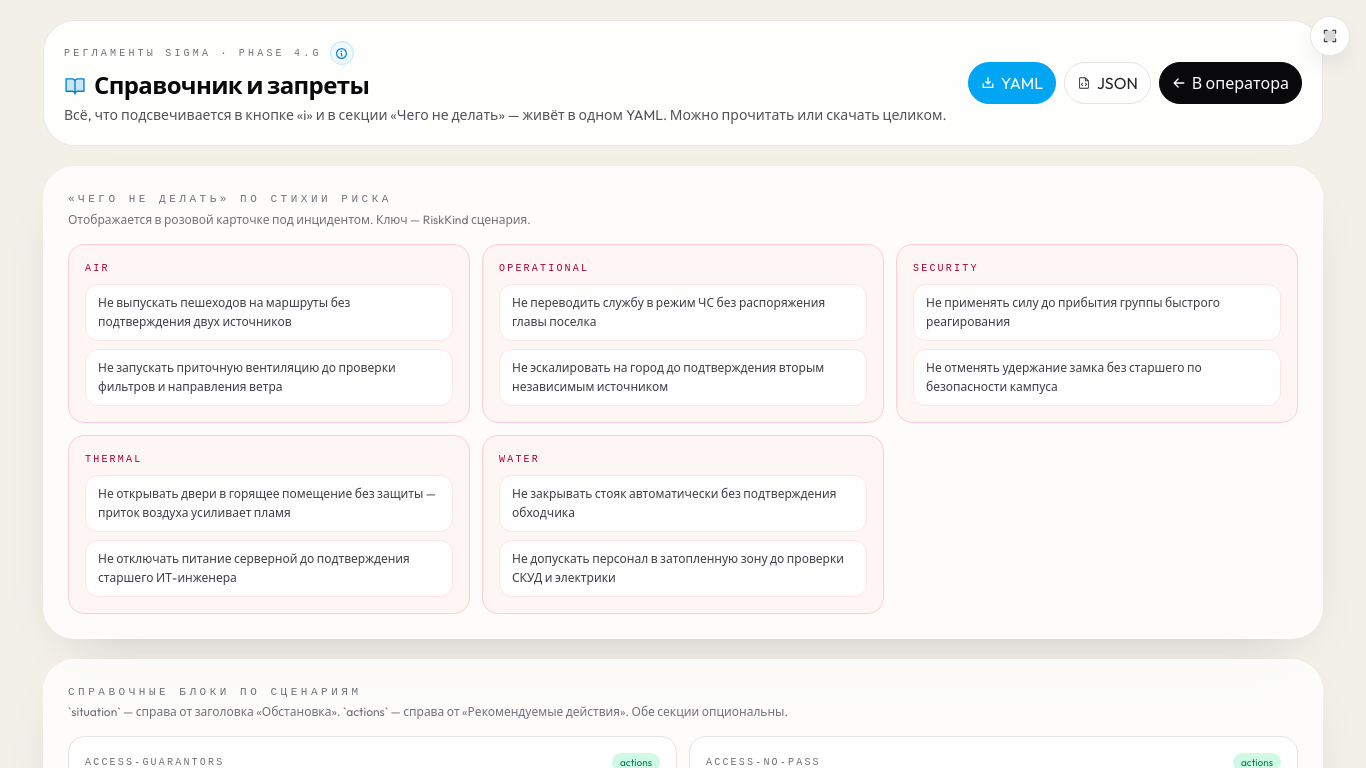
Test: Regulations viewer (/regulations) › exposes the help i-button with instructions
The image size is (1366, 768).
Click the button with test id "regulations-help". click: (342, 53)
box: left=330, top=41, right=354, bottom=65
(page scrolled)
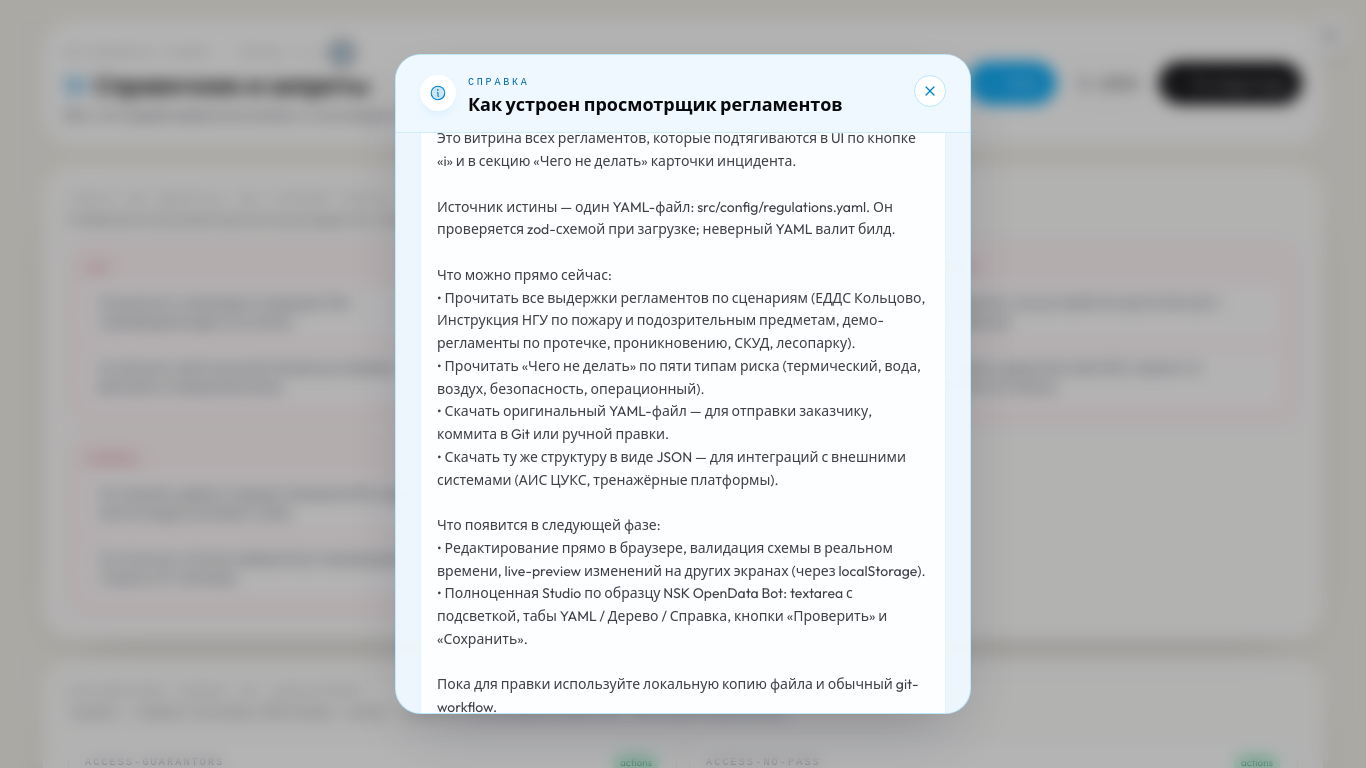
Result: the text "Это витрина всех регламентов" is shown at left=437, top=133, right=926, bottom=713
